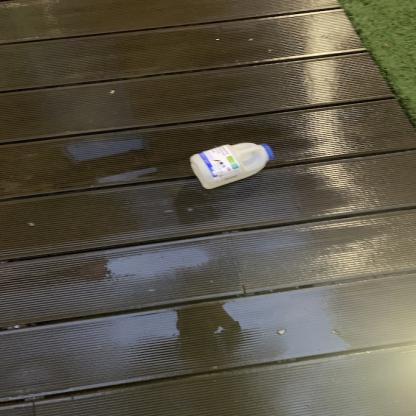trash: (191, 140, 275, 190)
